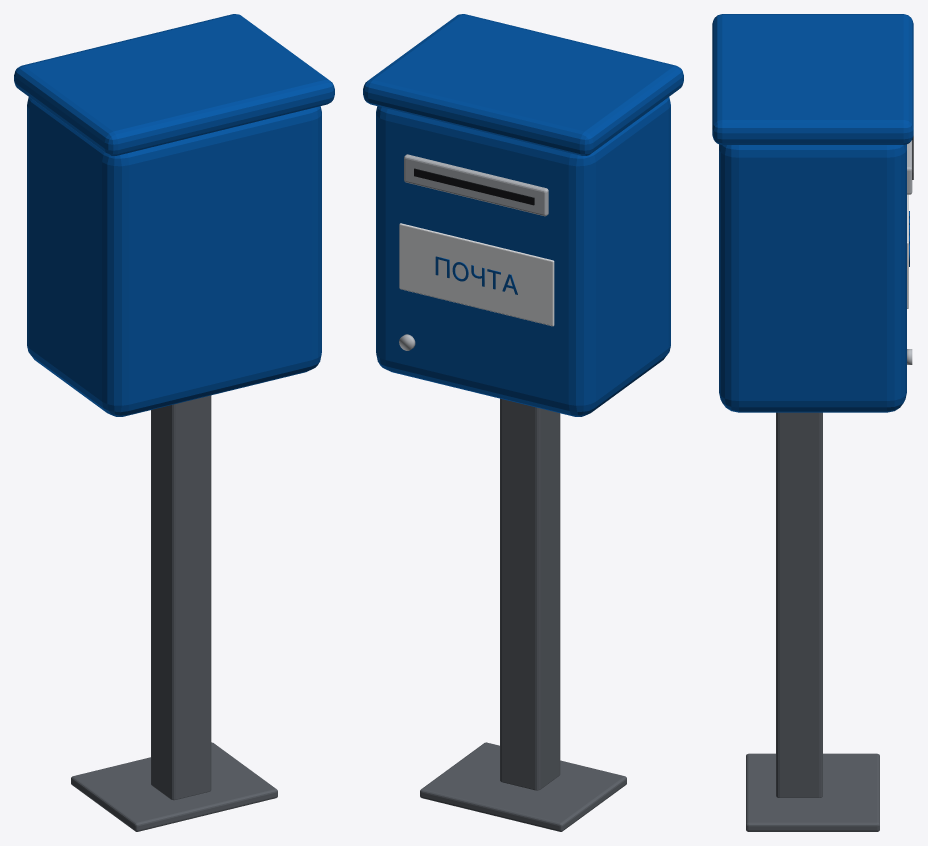
File: mailbox.glb
The picture shows the model from 3 angles, left to right: view 1: azimuth 30°, elevation 25°; view 2: azimuth 150°, elevation 25°; view 3: azimuth 270°, elevation 25°; orthographic projection.
Parts seen in each view (by area): view 1: body; view 2: body; view 3: body.
Boxes of the visible parts, bbox=[...] form: body: bbox=[14, 14, 334, 831]; body: bbox=[363, 14, 683, 831]; body: bbox=[712, 14, 913, 831].
Bounding box in the file's own units: 0.4 × 1.2 × 0.3.
